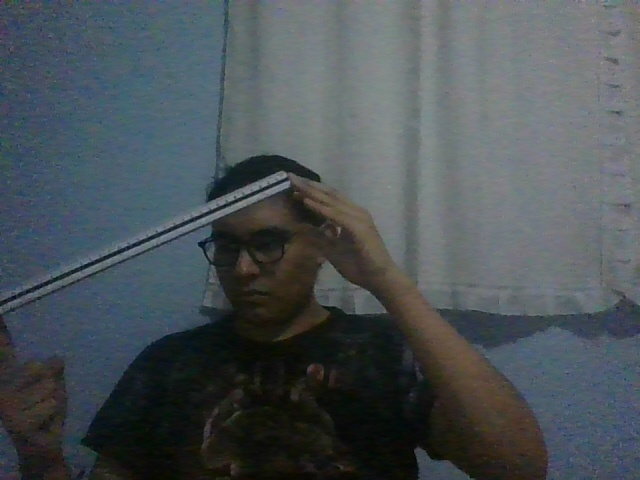regla: (1, 170, 292, 315)
